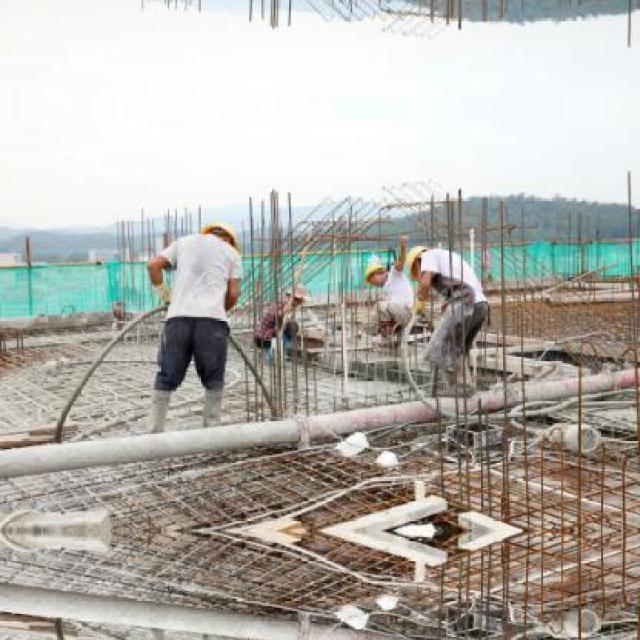helmet: (200, 214, 245, 254), (401, 243, 434, 288), (355, 252, 391, 285), (286, 280, 311, 302)
